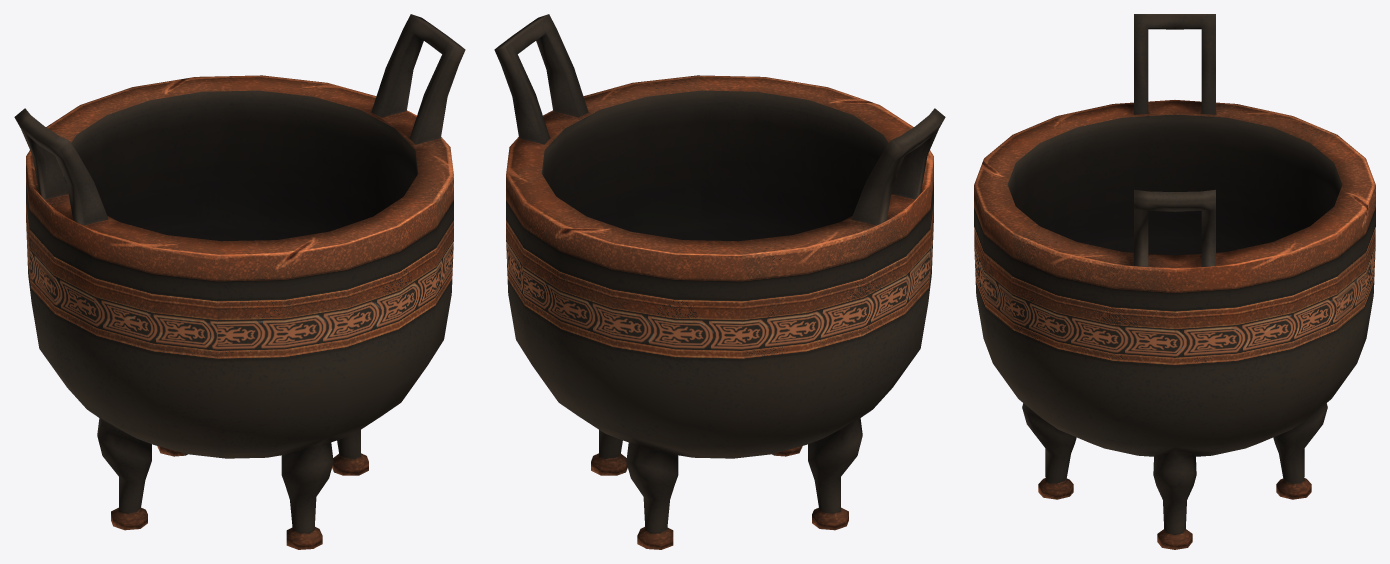
The model's file is pot.fbx.
The picture shows the model from 3 angles, left to right: view 1: azimuth 30°, elevation 25°; view 2: azimuth 150°, elevation 25°; view 3: azimuth 270°, elevation 25°; orthographic projection. The views are drawn at different scales.
Visible parts, largest first — view 1: Pot; view 2: Pot; view 3: Pot.
Part boxes in pixels (box(x1,y1,x2,y2)): Pot: box(14, 14, 465, 549); Pot: box(494, 14, 945, 549); Pot: box(974, 14, 1375, 549).
Bounding box in the file's own units: 22.54 × 21.81 × 20.34.
1 material, 1 textured.
